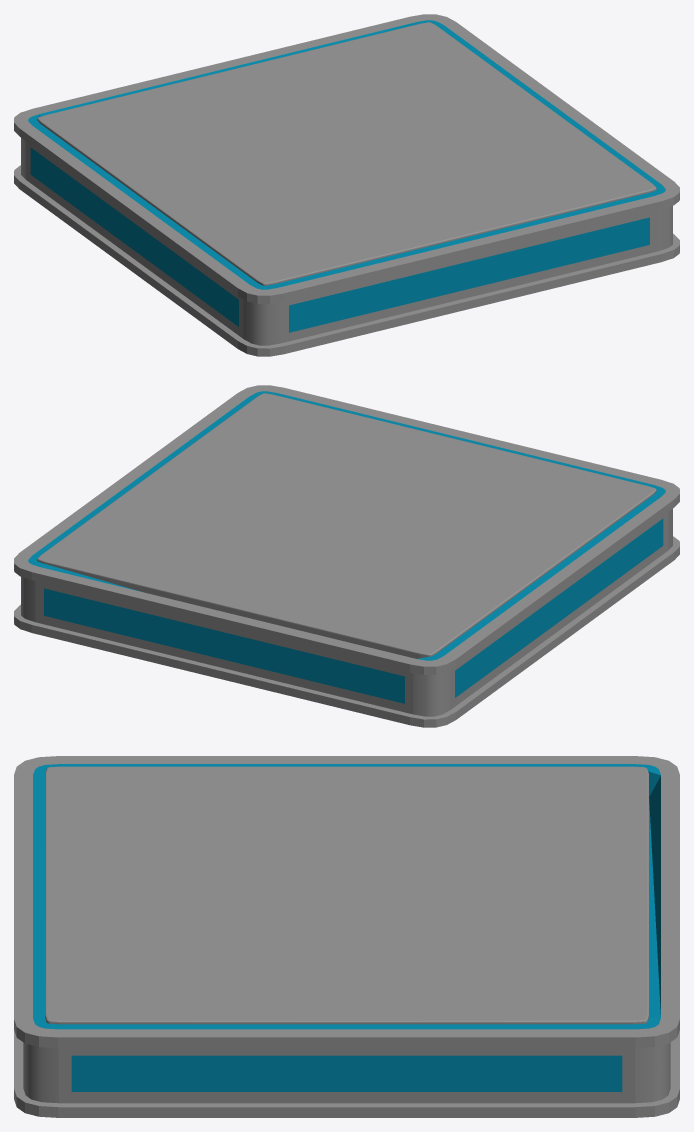
File: JumpPad.FBX
3 views of the same model, one above another, from view 1: azimuth 30°, elevation 25°; view 2: azimuth 150°, elevation 25°; view 3: azimuth 270°, elevation 25° (orthographic). The views are drawn at different scales.
Visible parts, largest first — view 1: Box001; view 2: Box001; view 3: Box001.
Part boxes in pixels (<box>): Box001: <box>14,14,679,356</box>; Box001: <box>14,385,679,727</box>; Box001: <box>14,756,679,1117</box>.
Bounding box in the file's own units: 300 × 41.54 × 300.
